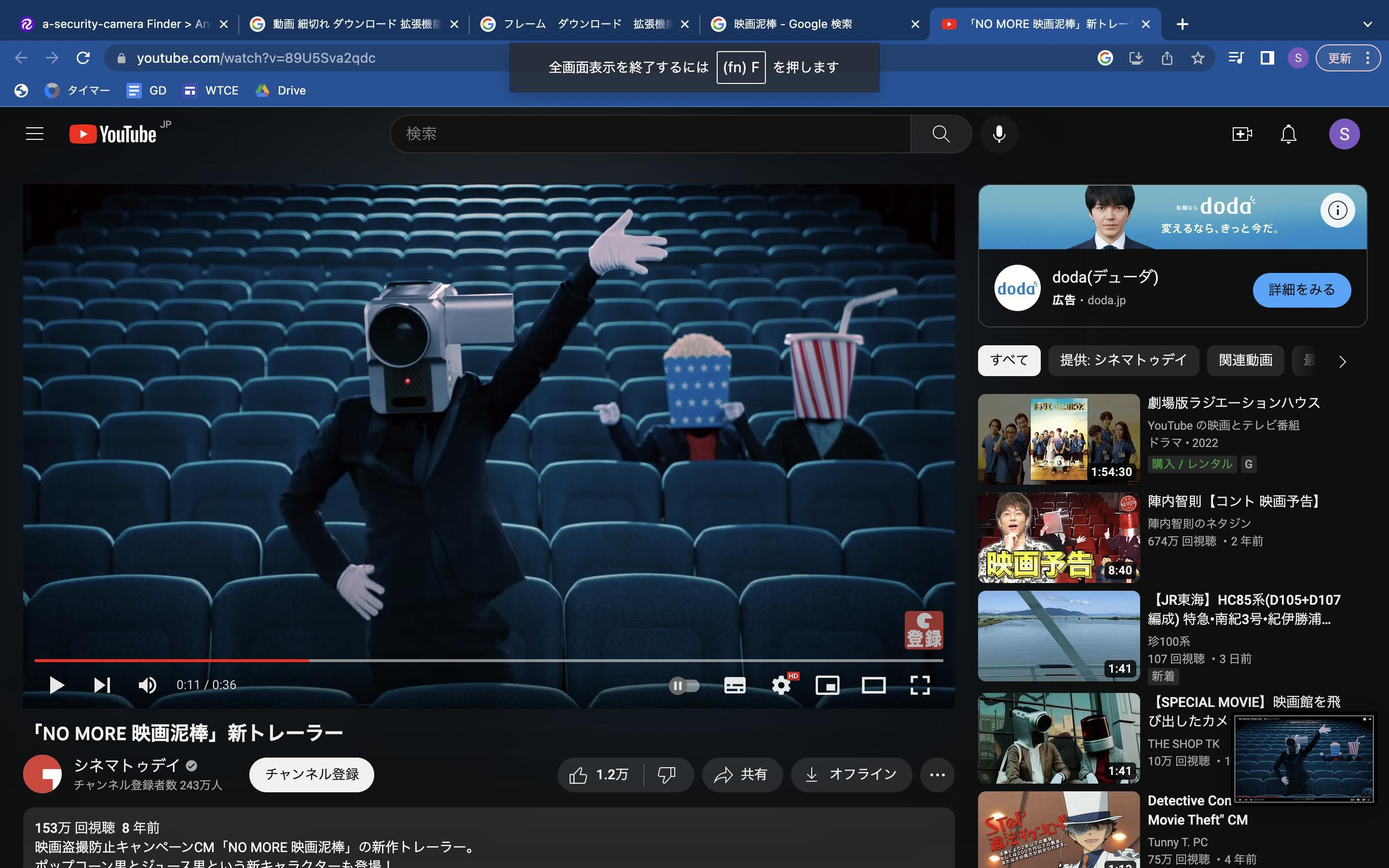no more kid: (364, 283, 519, 416)
